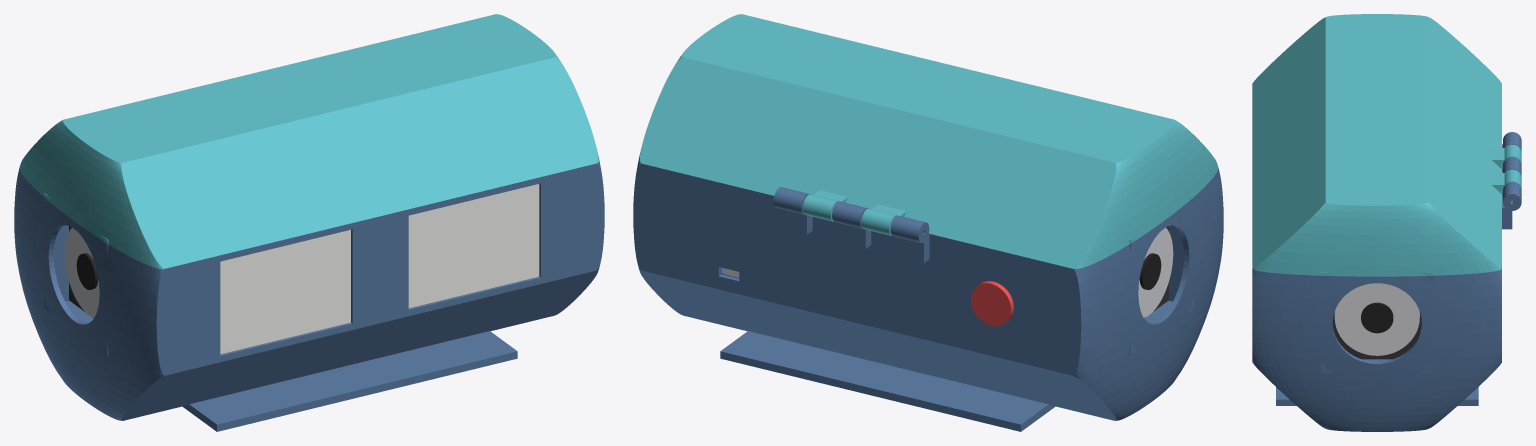
The model's file is speaker_closed.glb.
3 views of the same model, side by side, from view 1: azimuth 30°, elevation 25°; view 2: azimuth 150°, elevation 25°; view 3: azimuth 270°, elevation 25° (orthographic). The views are drawn at different scales.
Parts seen in each view (by area): view 1: lid, body, pr1, pr-1, cone-1, dust-1; view 2: body, lid, sw_rocker, cone-1, dust-1; view 3: lid, body, cone1, dust1, driver1.
Boxes of the visible parts, x1=… form: lid: x1=19, y1=14, x2=599, y2=268; body: x1=14, y1=161, x2=604, y2=431; pr1: x1=408, y1=184, x2=539, y2=308; pr-1: x1=220, y1=230, x2=350, y2=354; cone-1: x1=64, y1=227, x2=99, y2=317; dust-1: x1=76, y1=253, x2=98, y2=289; body: x1=633, y1=161, x2=1223, y2=431; lid: x1=638, y1=14, x2=1218, y2=268; sw_rocker: x1=971, y1=281, x2=1013, y2=326; cone-1: x1=1138, y1=227, x2=1173, y2=317; dust-1: x1=1139, y1=253, x2=1161, y2=289; lid: x1=1252, y1=14, x2=1521, y2=276; body: x1=1252, y1=132, x2=1521, y2=431; cone1: x1=1334, y1=283, x2=1419, y2=355; dust1: x1=1361, y1=302, x2=1393, y2=333; driver1: x1=1332, y1=312, x2=1421, y2=359.
Size of the model in its own units: 235 by 126 by 133.
